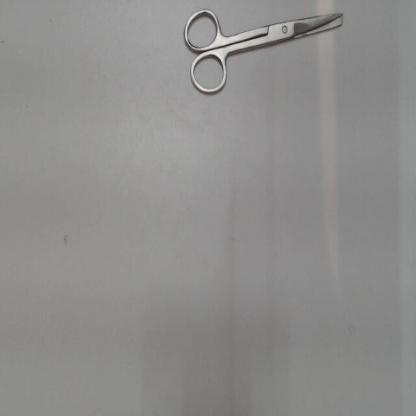Dressing Scissors: (175, 3, 354, 104)
